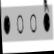correct: (2, 13, 11, 37)
not correct: (42, 0, 51, 34)
